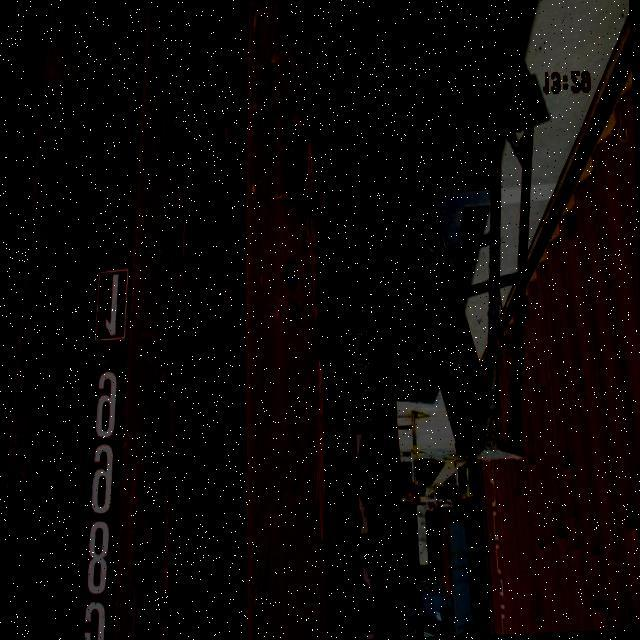Minor-Dent: (339, 286, 383, 434)
